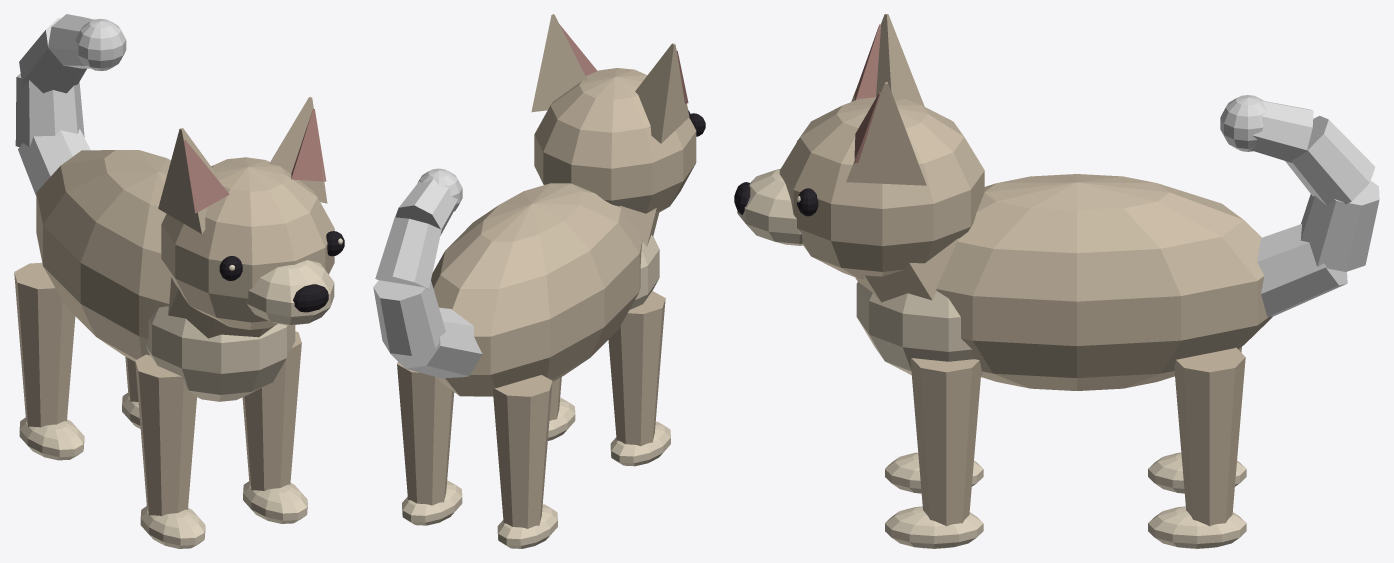
File: jindo.fbx
3 renders of one model, left to right at view 1: azimuth 30°, elevation 25°; view 2: azimuth 150°, elevation 25°; view 3: azimuth 270°, elevation 25°, orthographic. The views are drawn at different scales.
Parts seen in each view (by area): view 1: Body, Tail, HindLeft, ForeLeft, ForeRight, HindRight; view 2: Body, Tail, HindLeft, ForeLeft, HindRight, ForeRight; view 3: Body, Tail, HindRight, ForeRight, HindLeft, ForeLeft.
Part boxes in pixels (x1,y1,x2,y2): Body: [36, 96, 344, 401]; Tail: [15, 14, 126, 196]; HindLeft: [14, 262, 84, 460]; ForeLeft: [135, 354, 205, 548]; ForeRight: [242, 331, 307, 523]; HindRight: [122, 356, 140, 428]; Body: [431, 14, 705, 396]; Tail: [373, 168, 482, 379]; HindLeft: [493, 375, 557, 548]; ForeLeft: [608, 291, 670, 466]; HindRight: [397, 362, 462, 525]; ForeRight: [548, 377, 575, 440]; Body: [734, 14, 1272, 390]; Tail: [1220, 95, 1379, 316]; HindRight: [1148, 347, 1246, 548]; ForeRight: [885, 358, 983, 548]; HindLeft: [1148, 347, 1246, 493]; ForeLeft: [885, 452, 983, 493].
Size of the model in its own units: 46 by 119 by 148.
